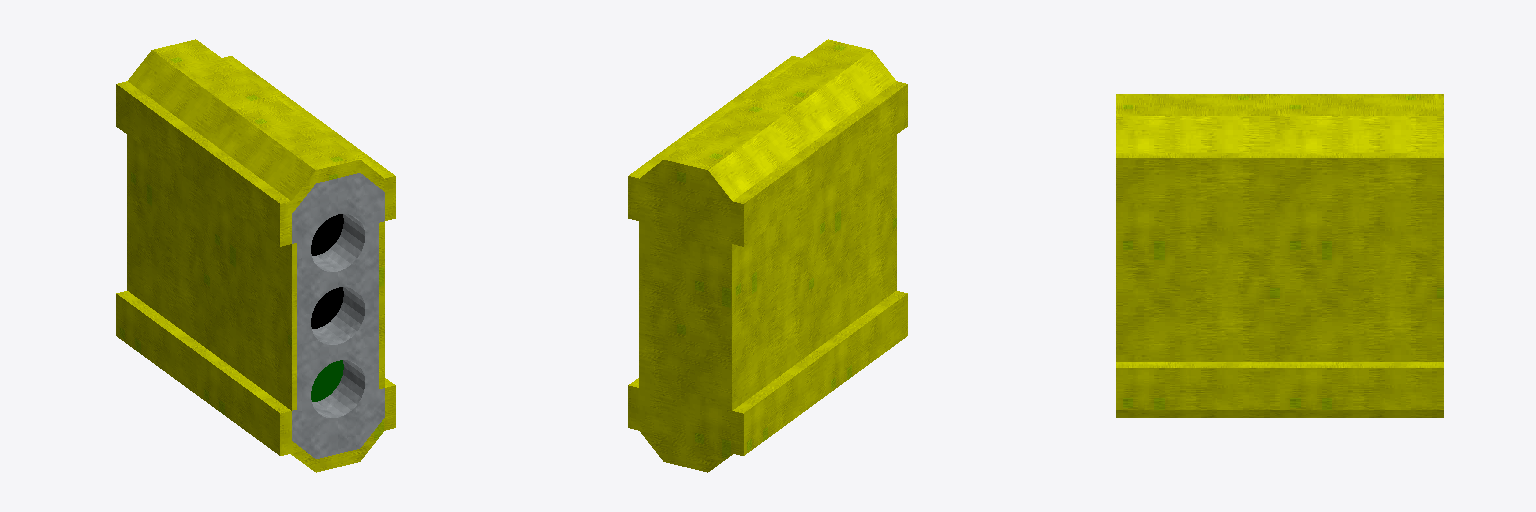
3 renders of one model, left to right at view 1: azimuth 30°, elevation 25°; view 2: azimuth 150°, elevation 25°; view 3: azimuth 270°, elevation 25°, orthographic.
Parts seen in each view (by area): view 1: kinoko-SKP--_Metal_Aluminum_Anodized_, kinoko-SKP--_Metal_Rough_, kinoko-SKP--_Color_M09_, kinoko-SKP--_Color_G08_; view 2: kinoko-SKP--_Metal_Aluminum_Anodized_; view 3: kinoko-SKP--_Metal_Aluminum_Anodized_.
Part boxes in pixels (x1,y1,x2,y2): kinoko-SKP--_Metal_Aluminum_Anodized_: (116, 39, 395, 472); kinoko-SKP--_Metal_Rough_: (292, 173, 384, 458); kinoko-SKP--_Color_M09_: (311, 214, 343, 328); kinoko-SKP--_Color_G08_: (311, 360, 343, 401); kinoko-SKP--_Metal_Aluminum_Anodized_: (628, 39, 907, 472); kinoko-SKP--_Metal_Aluminum_Anodized_: (1116, 94, 1443, 417).
Bounding box in the file's own units: 19.84 × 49.67 × 48.88.
4 materials, 4 textured.